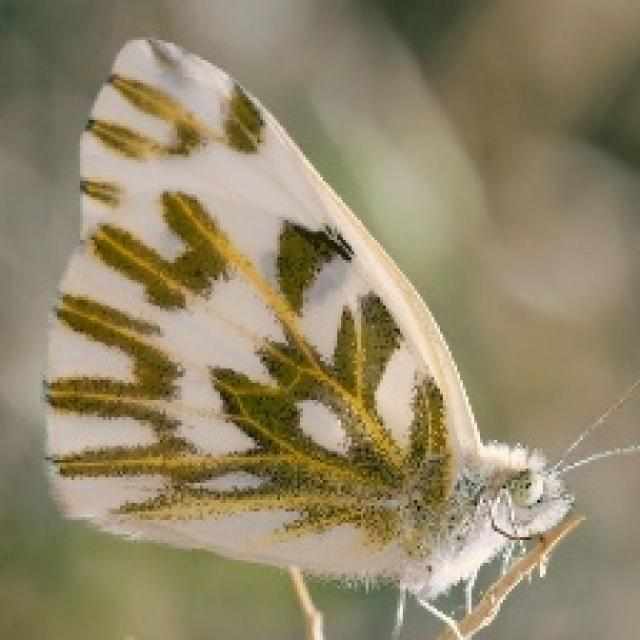butterfly: (40, 32, 637, 637)
